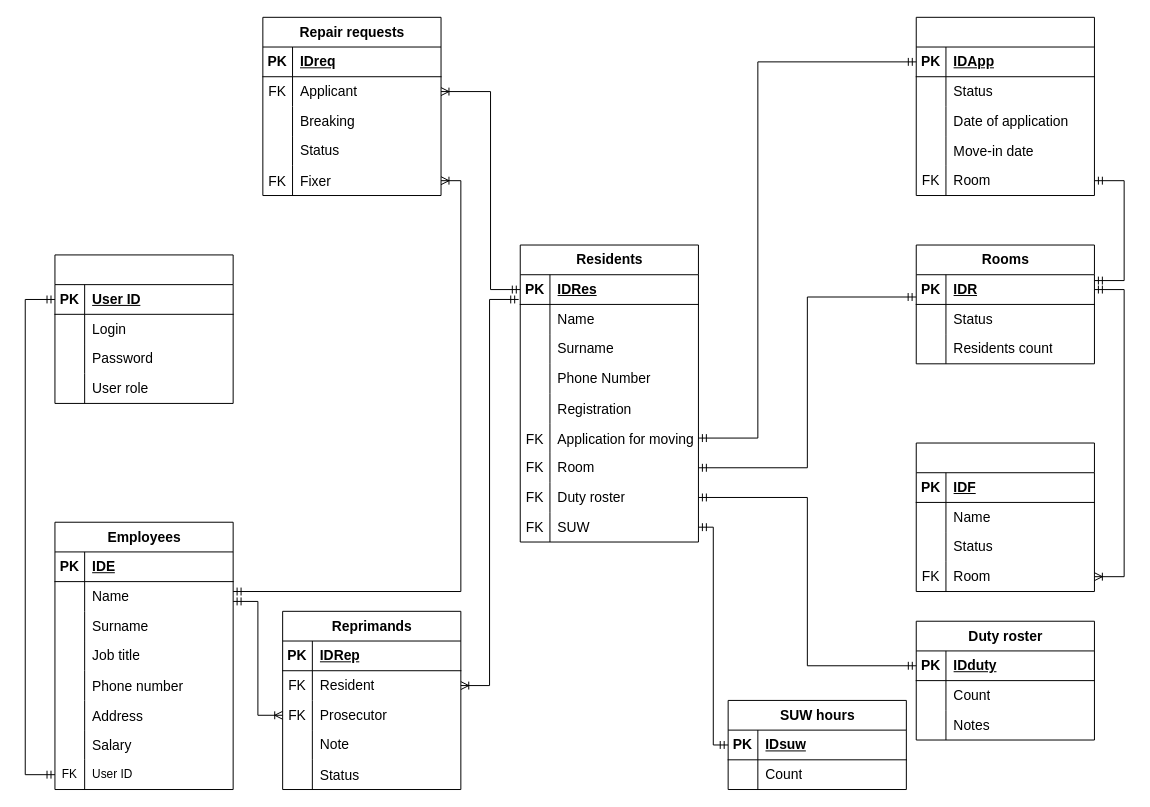
The diagram is 1150 pixels wide and 807 high, and some of its shapes have lost their labels. Here are the shapes that lost their labels. From the top down, the box of each, then its label:
(915, 16, 1094, 196): Applications for moving in
(54, 254, 233, 403): Users
(915, 442, 1094, 592): Furniture
